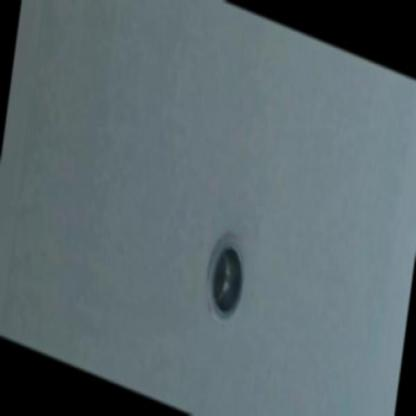light_off: (191, 202, 259, 349)
